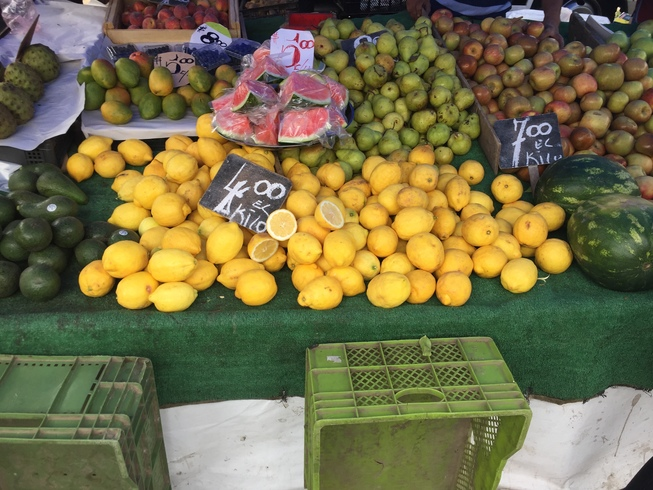precio: (197, 152, 303, 244), (484, 106, 570, 182), (271, 19, 329, 88), (151, 48, 205, 101), (190, 19, 240, 65)
